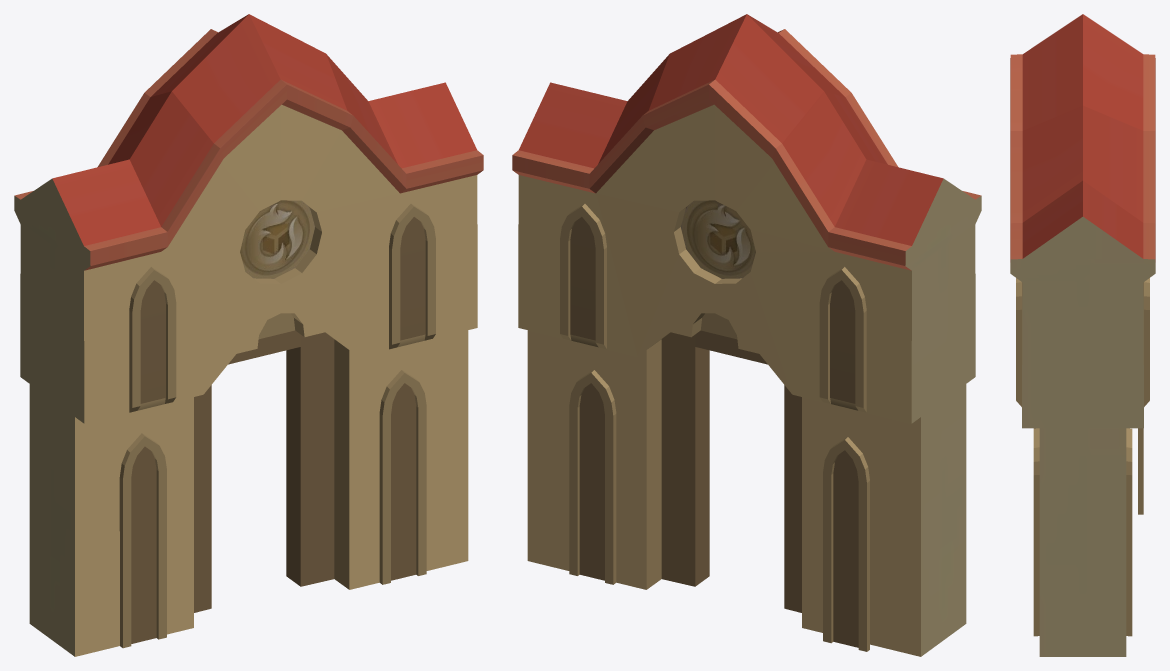
File: castle_town_entrence_main.glb
3 renders of one model, left to right at view 1: azimuth 30°, elevation 25°; view 2: azimuth 150°, elevation 25°; view 3: azimuth 270°, elevation 25°, orthographic. The views are drawn at different scales.
Visible parts, largest first — view 1: entrence_main; view 2: entrence_main; view 3: entrence_main.
Part boxes in pixels (left/top/right/bottom): entrence_main: left=14, top=14, right=483, bottom=656; entrence_main: left=512, top=14, right=981, bottom=656; entrence_main: left=1010, top=14, right=1155, bottom=656.
Size of the model in its own units: 9.87 by 13.87 by 3.32.
1 material, 1 textured.
